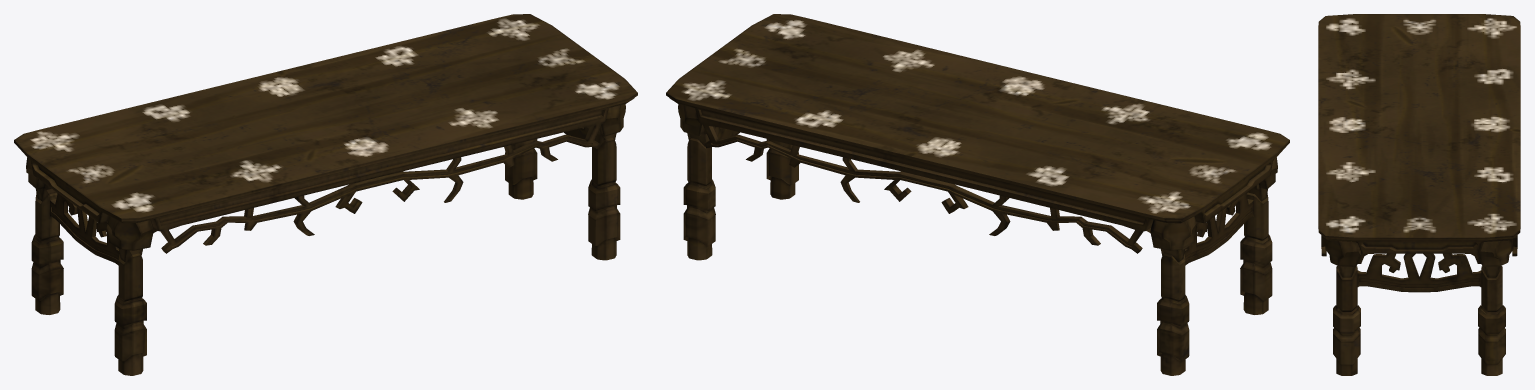
Rendered from DulingTable_Model.fbx.
3 renders of one model, left to right at view 1: azimuth 30°, elevation 25°; view 2: azimuth 150°, elevation 25°; view 3: azimuth 270°, elevation 25°, orthographic. The views are drawn at different scales.
Visible parts, largest first — view 1: Dueling_Table__1_; view 2: Dueling_Table__1_; view 3: Dueling_Table__1_.
Boxes of the visible parts, x1,y1,x2,y2 form: Dueling_Table__1_: (14, 14, 637, 375); Dueling_Table__1_: (666, 14, 1289, 375); Dueling_Table__1_: (1318, 14, 1520, 375).
Bounding box in the file's own units: 299 × 90.55 × 114.
